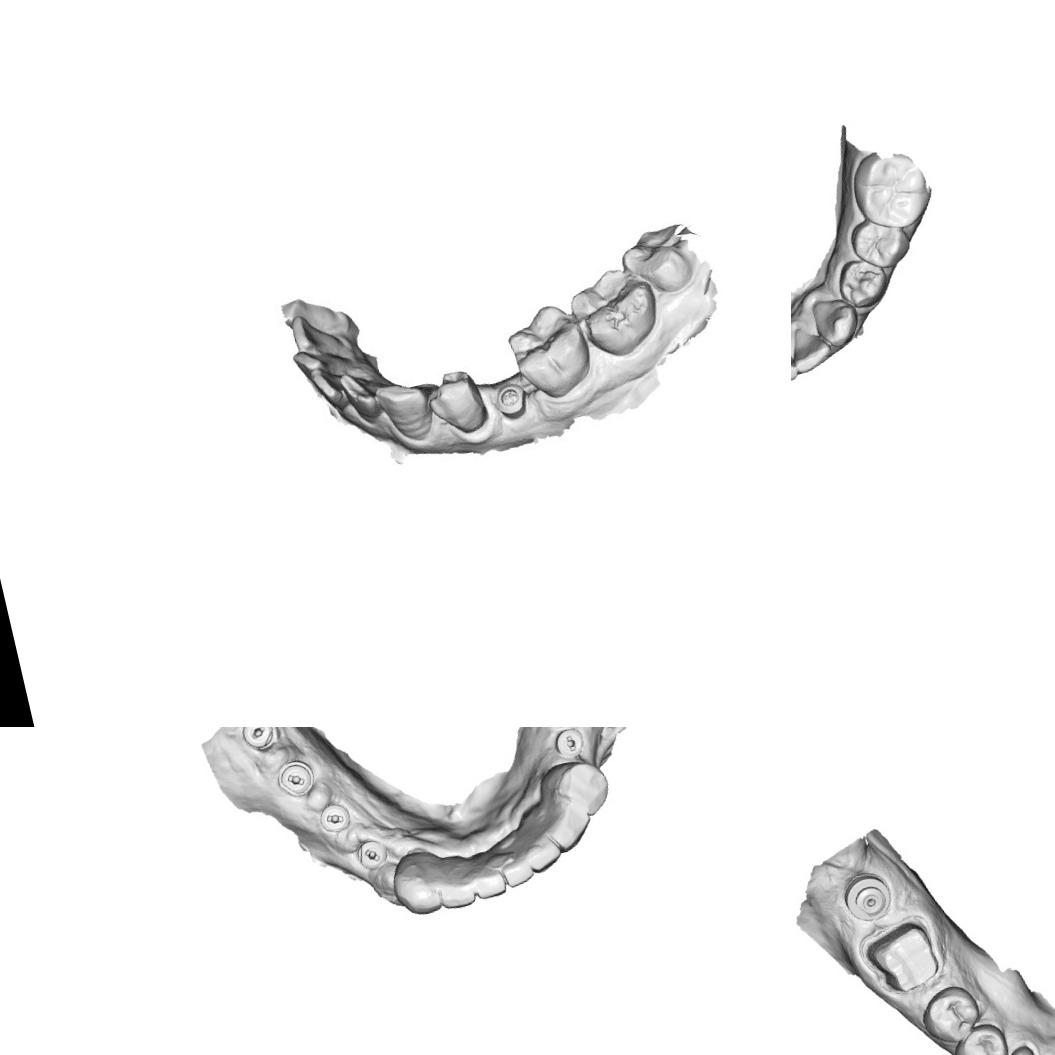canine: (368, 372, 441, 449), (386, 848, 448, 920), (540, 798, 598, 857), (809, 292, 864, 352)
crown: (860, 916, 946, 1000)
implant: (838, 866, 897, 927), (489, 380, 536, 425)
implant_minus: (273, 755, 319, 801), (353, 835, 392, 873), (316, 798, 354, 836), (551, 727, 586, 760), (238, 727, 277, 753)
incisor: (287, 309, 354, 370), (337, 363, 390, 424), (431, 850, 477, 914), (288, 342, 344, 394), (491, 837, 538, 891), (791, 321, 835, 375), (308, 362, 350, 416), (519, 826, 564, 876), (466, 850, 508, 902), (791, 337, 800, 388)
molar: (562, 261, 670, 362), (501, 296, 598, 406), (844, 140, 938, 238), (611, 214, 698, 304)
premolar: (421, 364, 494, 440), (916, 980, 988, 1051), (543, 753, 615, 823), (846, 211, 914, 275), (832, 253, 892, 312), (949, 1015, 1016, 1055)
